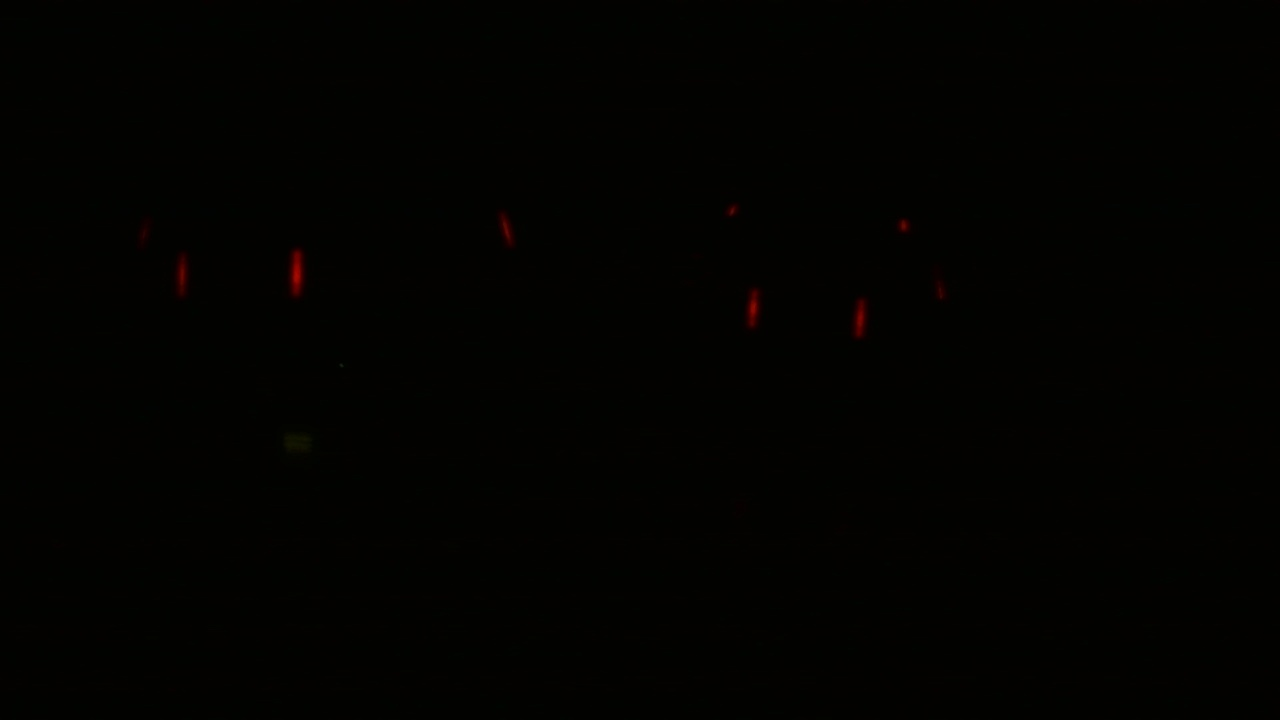pair1: (745, 281, 869, 342), (176, 248, 303, 297)
